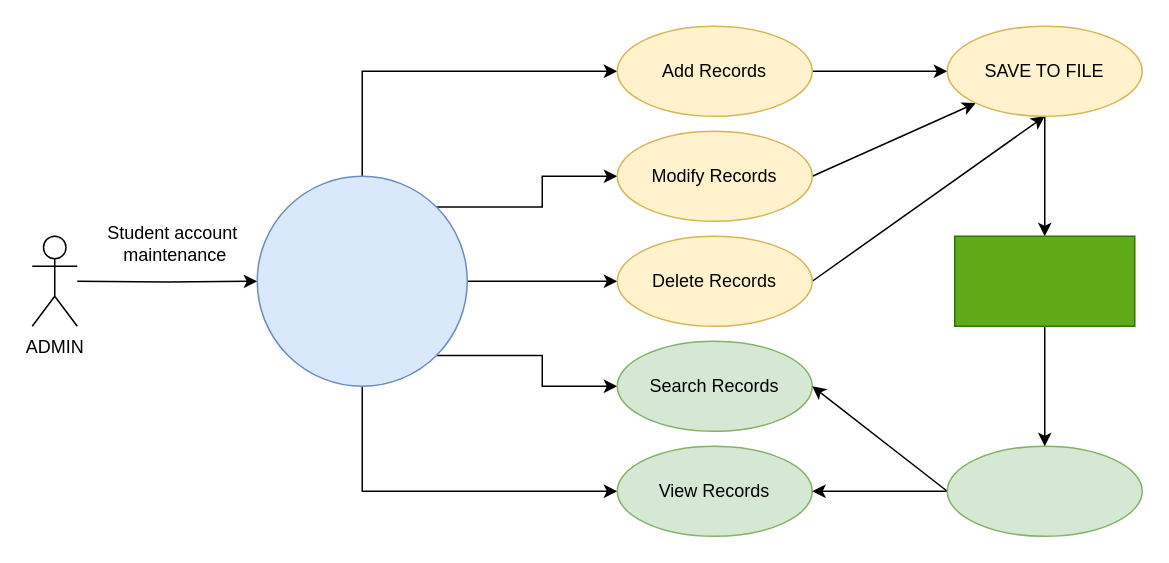
Some shapes in this 1169 by 563 pixel diagram are drawn without their labels. Here are the shapes that lost their labels. From the top down, the centre of each, then its label:
At point 361,280: "Student Database Management System".
At point 1044,280: "DATABASE FILE".
At point 1044,490: "READ FROM FILE".
